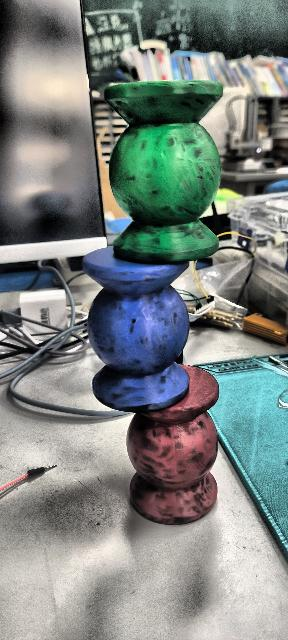blue: (82, 245, 192, 412)
green: (95, 66, 228, 268)
red: (113, 365, 234, 536)
